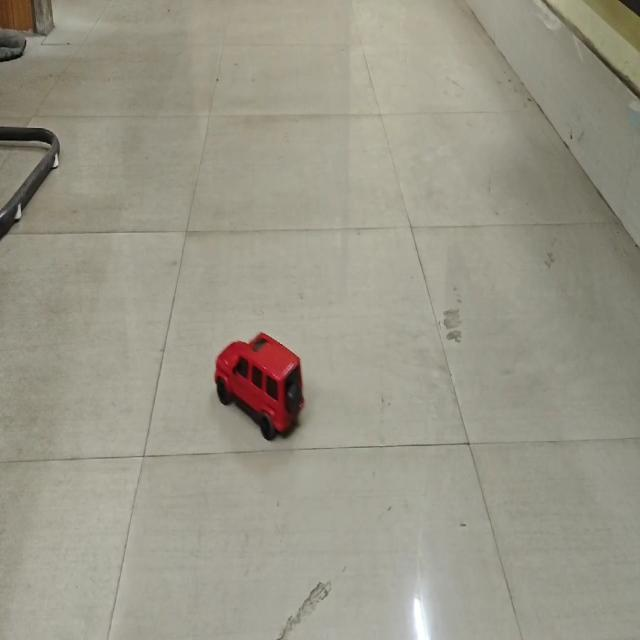light_vehicle: (208, 326, 304, 435)
